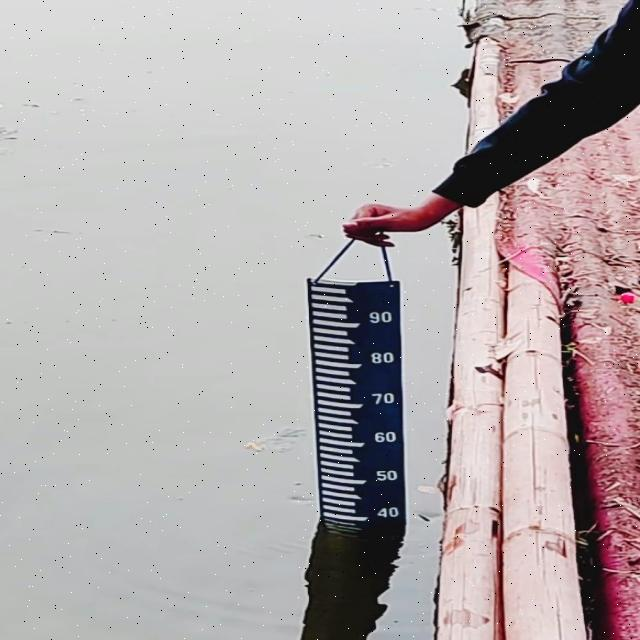40: (374, 504, 401, 519)
50: (373, 468, 399, 482)
60: (371, 429, 398, 444)
70: (368, 390, 395, 406)
80: (368, 350, 396, 367)
90: (366, 310, 393, 326)
staff: (307, 279, 409, 522)
